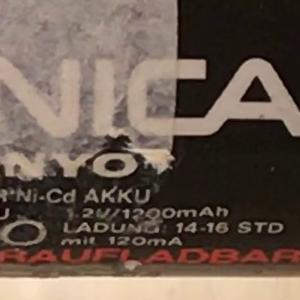keyword: (8, 180, 85, 206)
